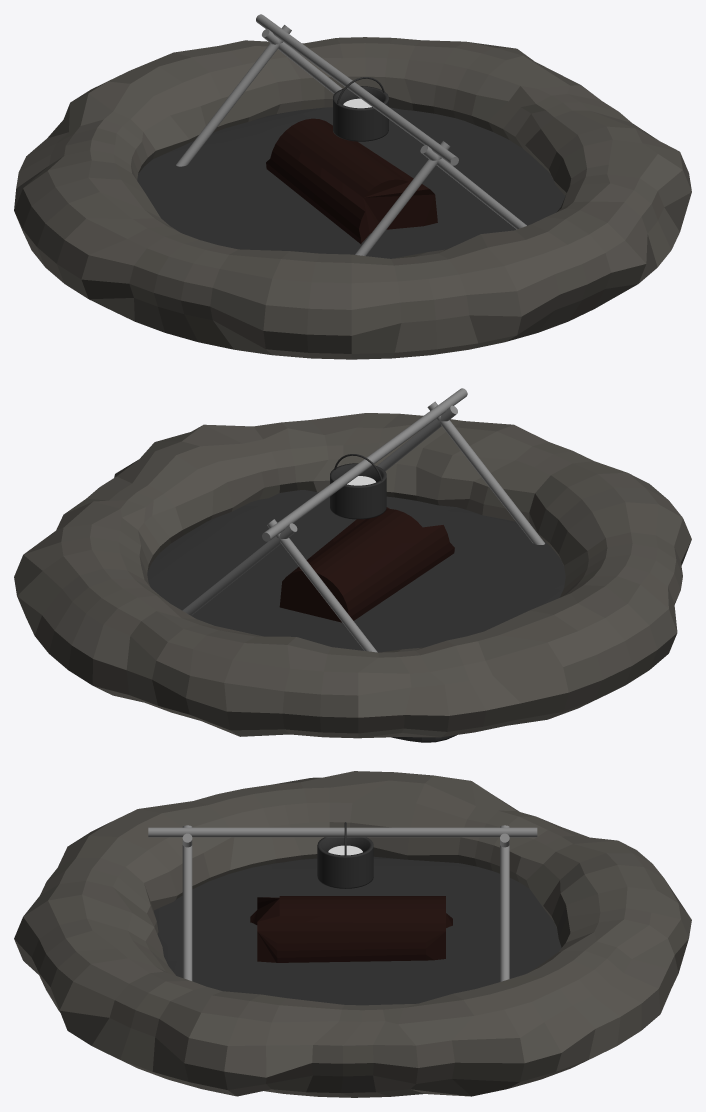
The model's file is FirePit.fbx.
The picture shows the model from 3 angles, top to bottom: view 1: azimuth 30°, elevation 25°; view 2: azimuth 150°, elevation 25°; view 3: azimuth 270°, elevation 25°; orthographic projection.
Visible parts, largest first — view 1: Rocks, Charcoal, Log, Stand, Pot, Cylinder, Cylinder.002, Cylinder.003, Cylinder.001; view 2: Rocks, Charcoal, Log, Stand, Pot, Cylinder.002, Cylinder, Cylinder.001, Cylinder.003; view 3: Rocks, Charcoal, Log, Stand, Pot, Cylinder.003, Cylinder.001.
Boxes of the visible parts, <box> form: Rocks: <box>14,37,691,359</box>; Charcoal: <box>137,107,565,258</box>; Log: <box>266,118,437,244</box>; Stand: <box>256,14,458,165</box>; Pot: <box>333,77,388,141</box>; Cylinder: <box>176,25,291,166</box>; Cylinder.002: <box>355,141,450,255</box>; Cylinder.003: <box>420,145,526,229</box>; Cylinder.001: <box>262,29,342,93</box>; Rocks: <box>14,413,691,738</box>; Charcoal: <box>147,490,565,742</box>; Log: <box>279,507,454,622</box>; Stand: <box>262,388,467,541</box>; Pot: <box>330,454,386,519</box>; Cylinder.002: <box>427,401,544,544</box>; Cylinder: <box>267,519,377,652</box>; Cylinder.001: <box>182,523,297,615</box>; Cylinder.003: <box>377,405,457,471</box>; Rocks: <box>14,771,691,1097</box>; Charcoal: <box>153,856,561,1005</box>; Log: <box>250,896,452,962</box>; Stand: <box>148,827,537,837</box>; Pot: <box>317,822,373,888</box>; Cylinder.003: <box>182,825,192,980</box>; Cylinder.001: <box>500,825,509,981</box>.
Bounding box in the file's own units: 688 × 187 × 697.
